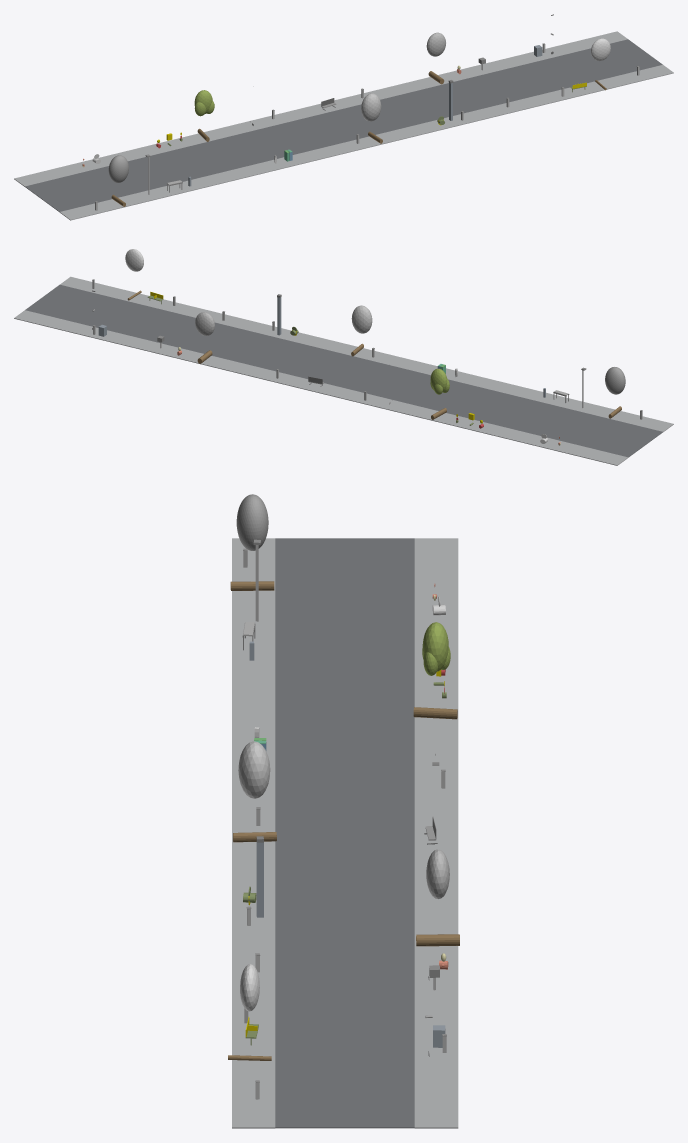
3 views of the same model, one above another, from view 1: azimuth 30°, elevation 25°; view 2: azimuth 150°, elevation 25°; view 3: azimuth 270°, elevation 25° (orthographic). The views are drawn at different scales.
Parts seen in each view (by area): view 1: road_slab, sidewalk_left, sidewalk_right, inst_0014, inst_0012, inst_0013, inst_0015, inst_0016; view 2: road_slab, sidewalk_right, sidewalk_left, inst_0014, inst_0012, inst_0013, inst_0015, inst_0016; view 3: road_slab, sidewalk_right, sidewalk_left, inst_0014, inst_0012, inst_0013, inst_0015, inst_0016.
Part boxes in pixels (box(x1,y1,x2,y2)): road_slab: box(25, 39, 662, 211); sidewalk_left: box(59, 65, 673, 220); sidewalk_right: box(14, 31, 627, 186); inst_0014: box(361, 93, 382, 143); inst_0012: box(108, 155, 128, 206); inst_0013: box(194, 90, 214, 141); inst_0015: box(426, 32, 445, 84); inst_0016: box(591, 38, 610, 90); road_slab: box(25, 284, 662, 457); sidewalk_right: box(14, 310, 628, 465); sidewalk_left: box(60, 276, 673, 432); inst_0014: box(351, 305, 372, 356); inst_0012: box(605, 367, 625, 418); inst_0013: box(430, 368, 449, 419); inst_0015: box(195, 312, 214, 363); inst_0016: box(125, 249, 143, 300); road_slab: box(275, 538, 414, 1128); sidewalk_right: box(414, 538, 458, 1128); sidewalk_left: box(232, 538, 275, 1128); inst_0014: box(233, 741, 276, 842); inst_0012: box(230, 494, 274, 590); inst_0013: box(413, 622, 457, 719); inst_0015: box(416, 849, 459, 946); inst_0016: box(228, 964, 271, 1060).
Size of the model in its own units: 80 by 6.08 by 13.31.
